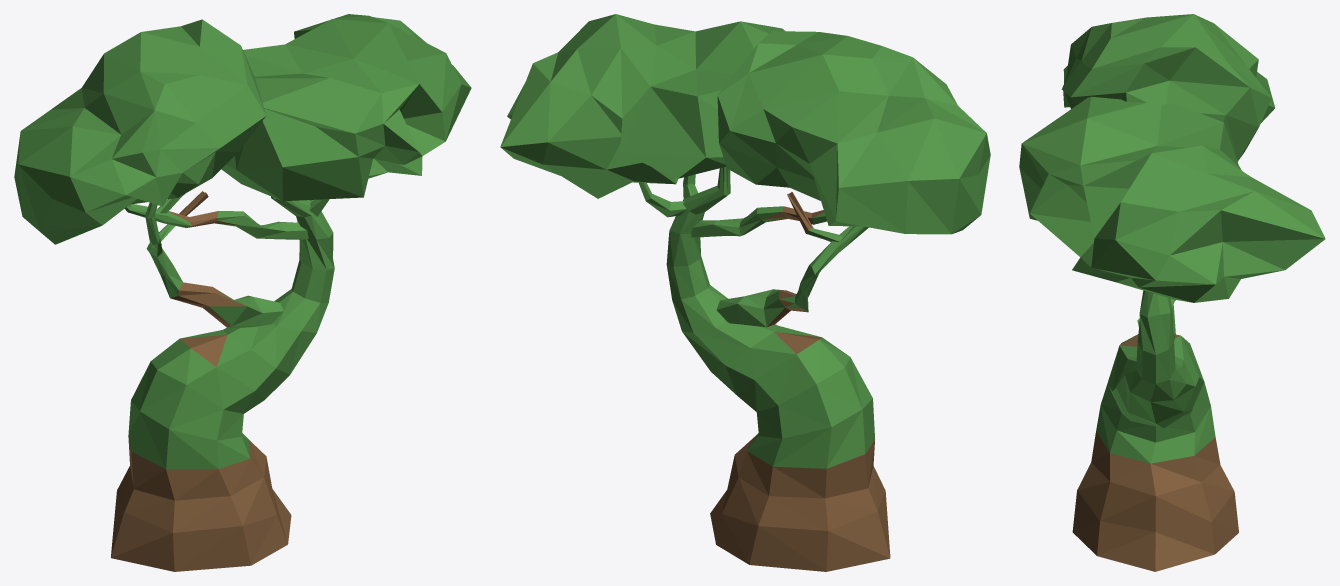
File: tree3d-060.glb
3 renders of one model, left to right at view 1: azimuth 30°, elevation 25°; view 2: azimuth 150°, elevation 25°; view 3: azimuth 270°, elevation 25°, orthographic. The views are drawn at different scales.
Visible parts, largest first — view 1: tree3d-060; view 2: tree3d-060; view 3: tree3d-060.
Part boxes in pixels (left/top/right/bottom): tree3d-060: left=14, top=14, right=471, bottom=571; tree3d-060: left=500, top=14, right=990, bottom=571; tree3d-060: left=1019, top=14, right=1325, bottom=571.
Bounding box in the file's own units: 0.9202 × 1 × 0.5614.
